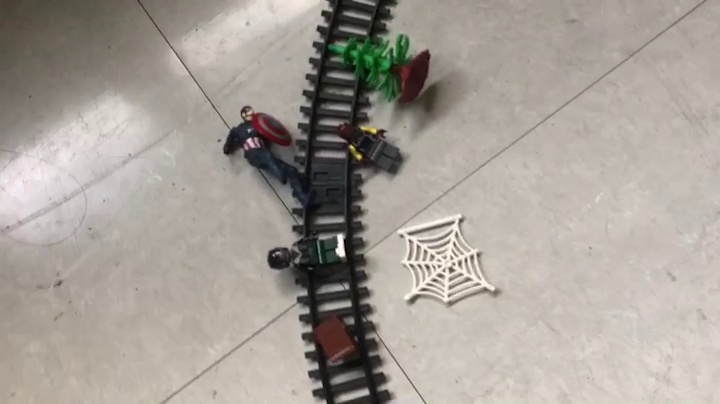box: (312, 316, 366, 366)
people: (221, 105, 321, 211), (264, 231, 349, 277), (336, 122, 405, 176)
tree: (325, 36, 432, 103)
web: (396, 214, 499, 304)
